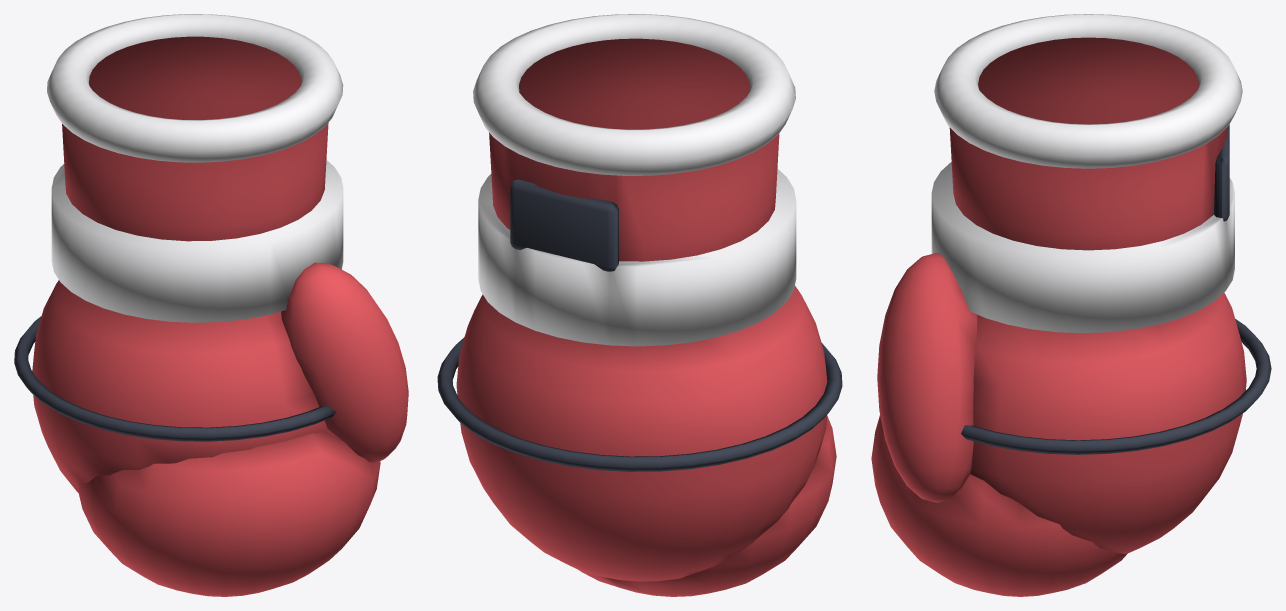
File: glove.glb
3 renders of one model, left to right at view 1: azimuth 30°, elevation 25°; view 2: azimuth 150°, elevation 25°; view 3: azimuth 270°, elevation 25°, orthographic. The views are drawn at different scales.
Parts seen in each view (by area): view 1: Glove; view 2: Glove; view 3: Glove.
Boxes of the visible parts, x1=… form: Glove: x1=14, y1=14, x2=408, y2=596; Glove: x1=437, y1=14, x2=842, y2=596; Glove: x1=871, y1=14, x2=1271, y2=596.
Size of the model in its own units: 0.148 by 0.2148 by 0.153.
